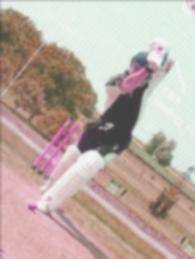batsman: (25, 25, 184, 230)
